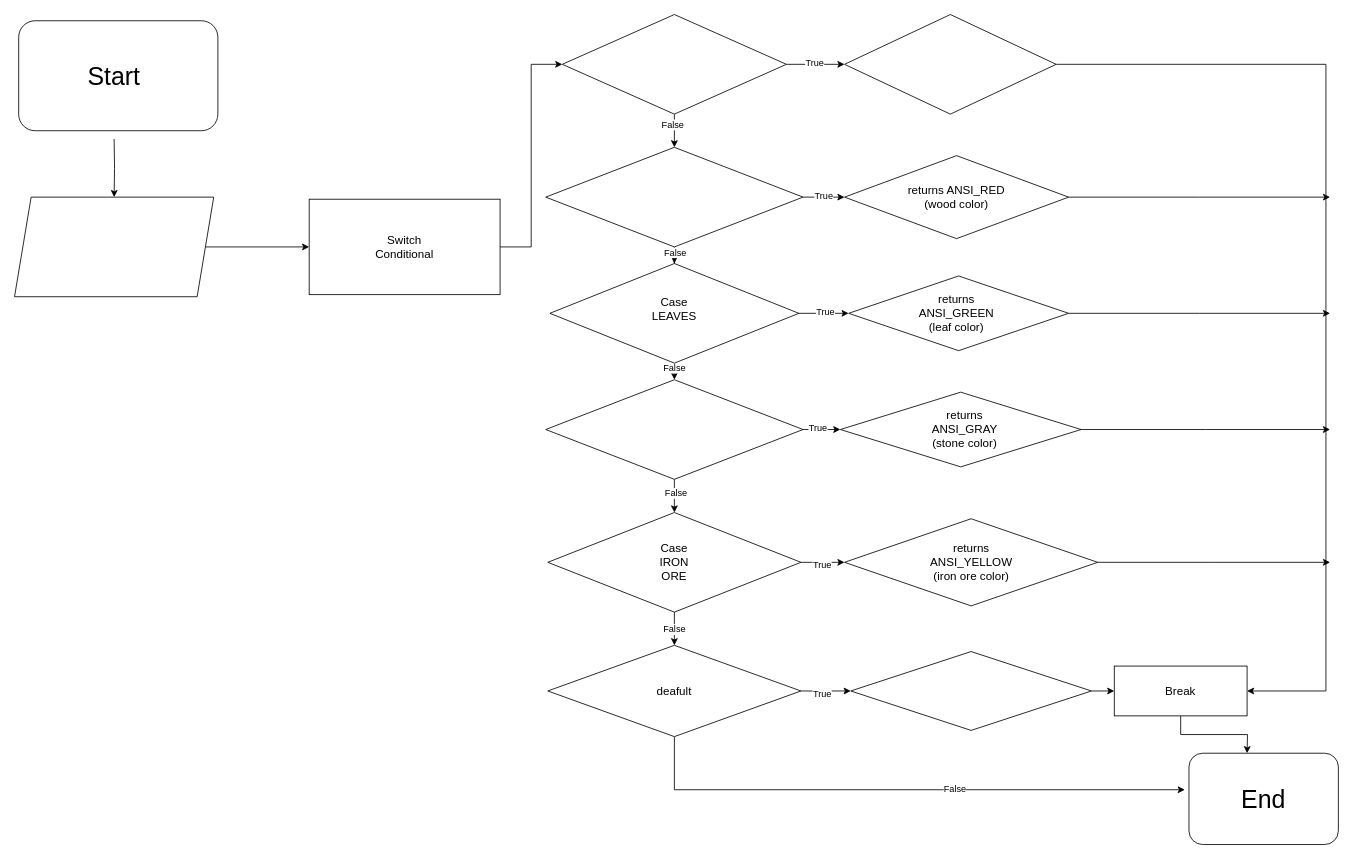
Image size: 1353x859. Some labels were removed from this diagram. The shapes that lost their labels are listed below. From the top down, each one's centre as x and y in pixels, then its label:
pixel 673 64: Case AIR
pixel 950 64: return white space to the user( (" ")
pixel 674 196: Case WOOD
pixel 114 246: Player input
pixel 674 429: Case STONE
pixel 970 690: Prints white space (" ")
